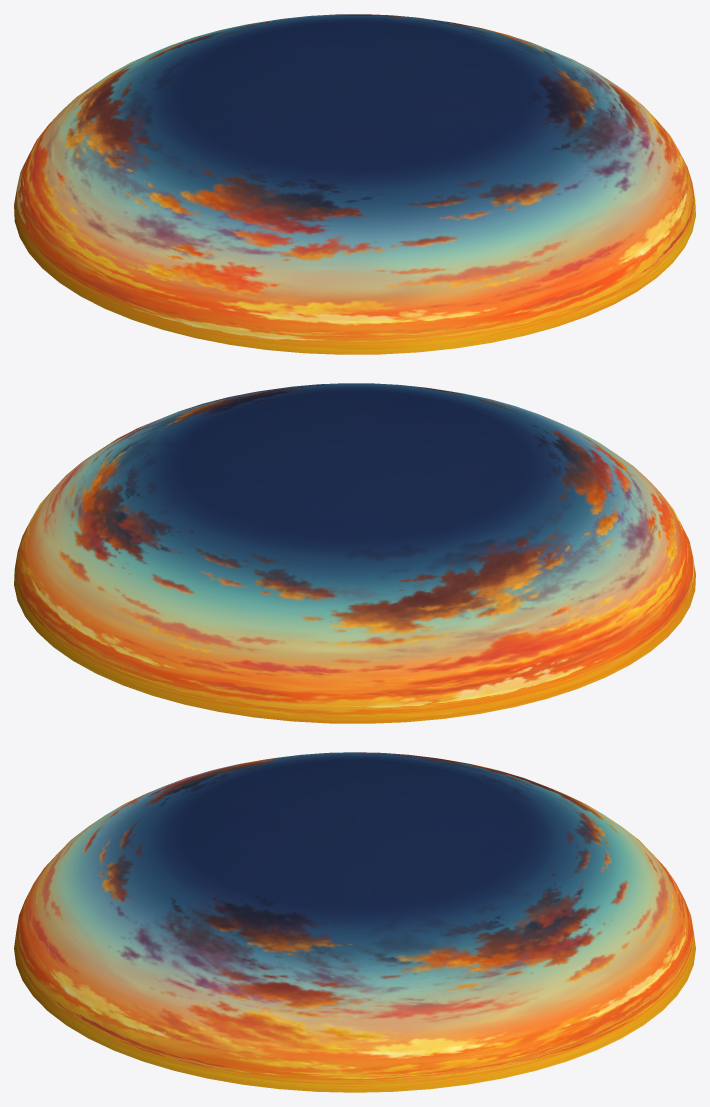
Rendered from BG_sky.fbx.
The picture shows the model from 3 angles, top to bottom: view 1: azimuth 30°, elevation 25°; view 2: azimuth 150°, elevation 25°; view 3: azimuth 270°, elevation 25°; orthographic projection.
Parts seen in each view (by area): view 1: BG_skyDome; view 2: BG_skyDome; view 3: BG_skyDome.
Boxes of the visible parts, x1,y1,x2,y2 form: BG_skyDome: (14, 14, 695, 354); BG_skyDome: (14, 383, 695, 723); BG_skyDome: (14, 752, 695, 1092).
Bounding box in the file's own units: 2507 × 542 × 2507.
